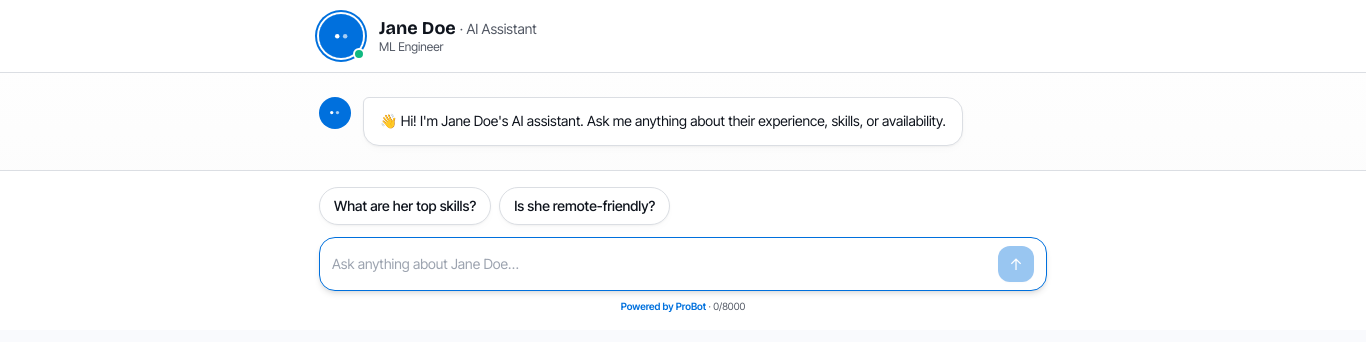
Test case: ChatWindow › renders the assistant reply on a 200 and removes the suggestion strip
Click the button "What are her top skills?" at (405, 206), box x1=319 y1=187 x2=491 y2=225
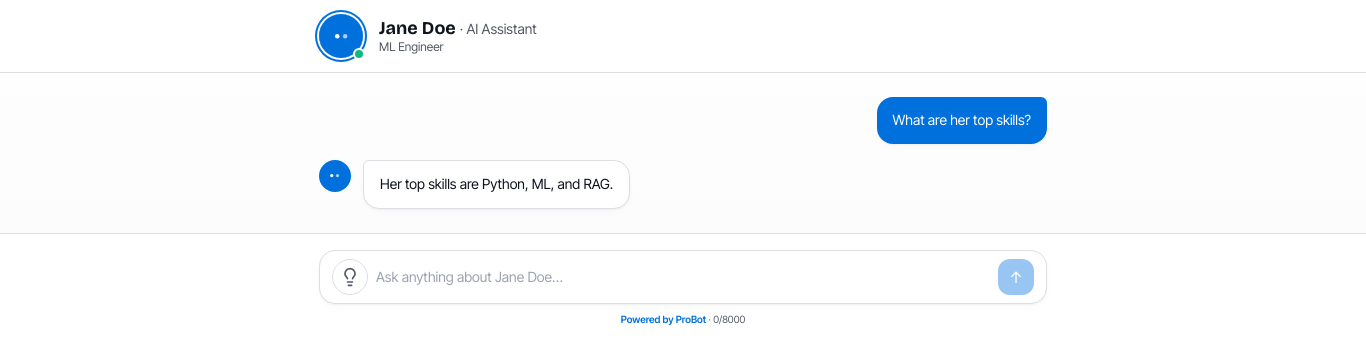
Expected: the text "Her top skills are Python, ML, and RAG." is shown, x1=380 y1=173 x2=613 y2=196
